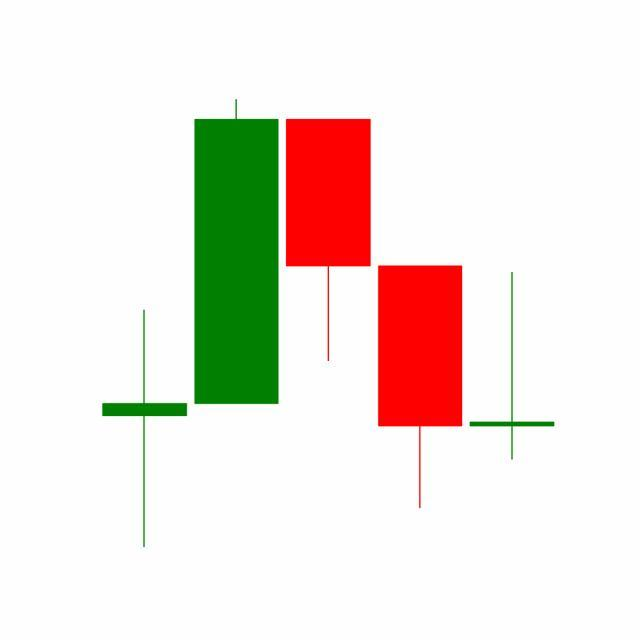Spinning Top: (466, 270, 559, 462)
